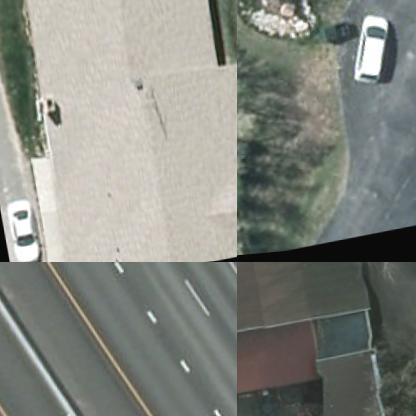car: (332, 15, 400, 96), (0, 191, 42, 261)
